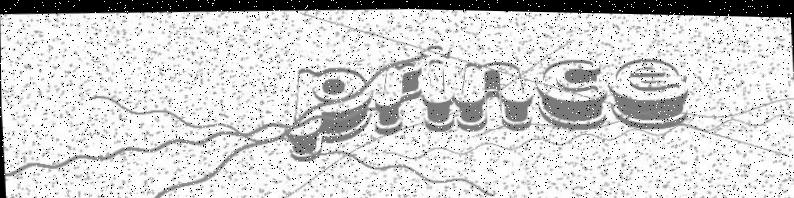c: (536, 54, 609, 128)
e: (608, 54, 690, 127)
i: (421, 42, 455, 129)
n: (455, 57, 536, 130)
p: (287, 64, 373, 161)
r: (372, 59, 425, 133)
